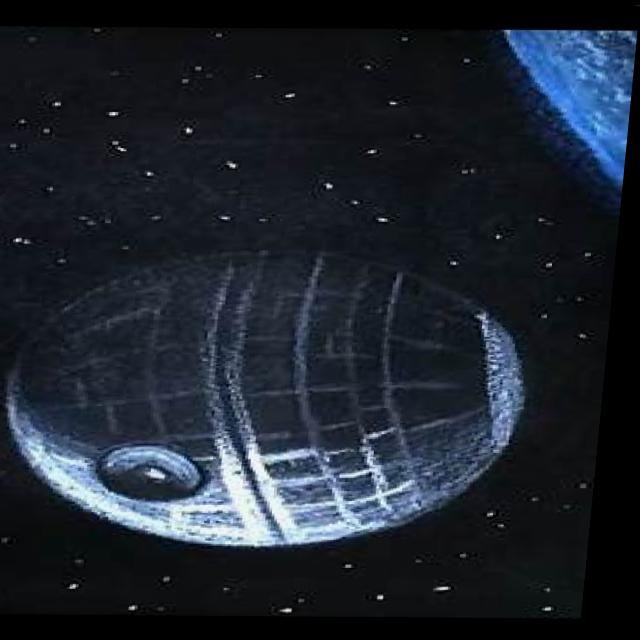deathStar: (0, 243, 557, 544)
